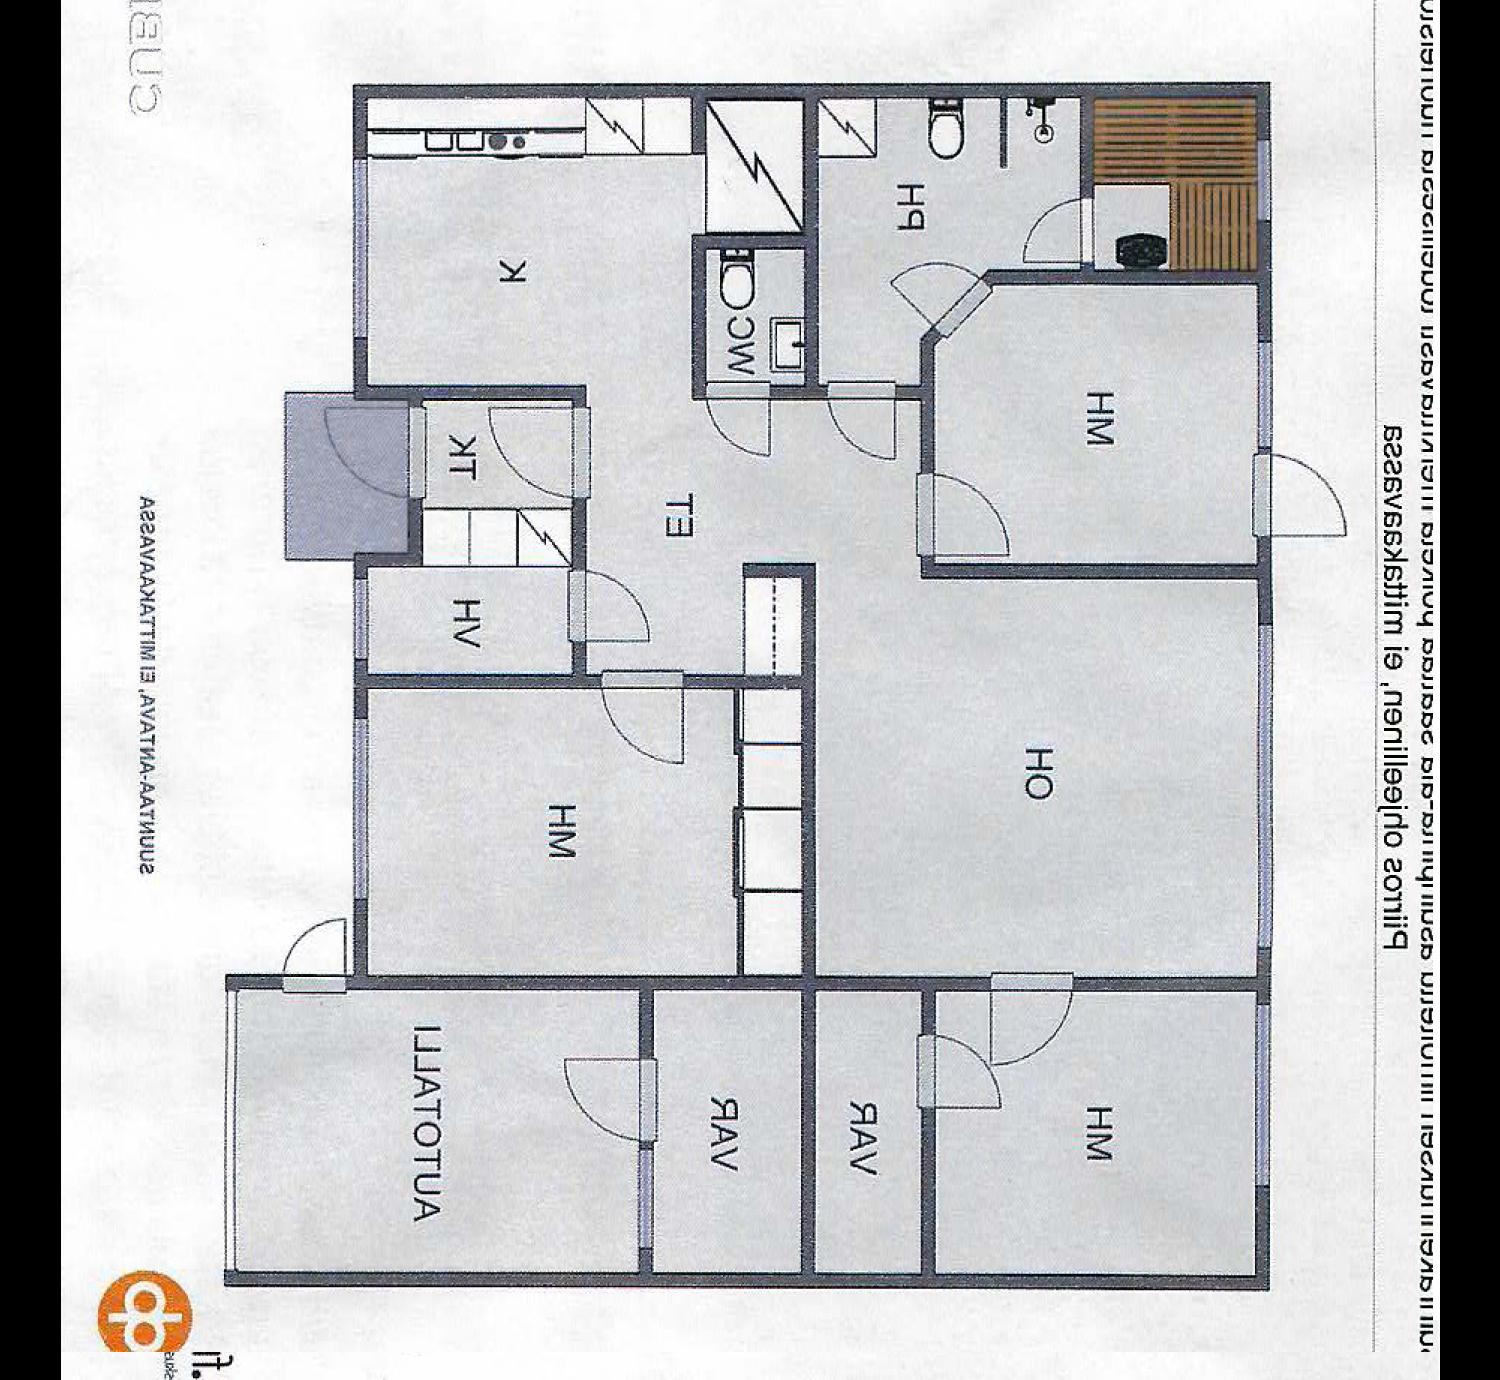door: (557, 1042, 674, 1143), (315, 393, 425, 501), (478, 395, 589, 501), (596, 656, 691, 776), (1253, 446, 1355, 550), (908, 468, 1014, 562), (980, 967, 1075, 1070), (559, 558, 661, 652), (891, 260, 993, 346), (909, 1032, 1006, 1120), (822, 374, 905, 465), (696, 374, 776, 464), (277, 913, 351, 997), (1018, 191, 1096, 264)
window: (1250, 612, 1280, 961), (337, 146, 379, 349), (1248, 989, 1280, 1202), (346, 710, 372, 911), (1248, 325, 1277, 452), (1248, 129, 1283, 230), (630, 1137, 659, 1260), (338, 567, 372, 666)
